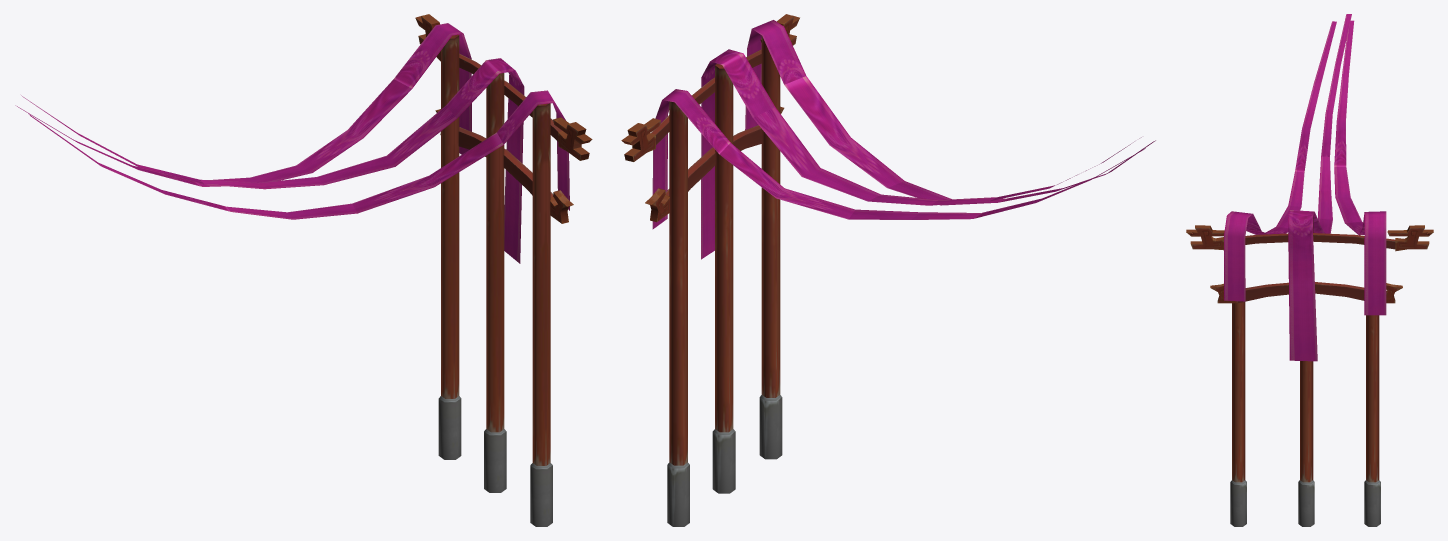
File: ZYthi_CLF_zhujiancaidai01.FBX
The picture shows the model from 3 angles, left to right: view 1: azimuth 30°, elevation 25°; view 2: azimuth 150°, elevation 25°; view 3: azimuth 270°, elevation 25°; orthographic projection. The views are drawn at different scales.
Visible parts, largest first — view 1: ZYthi_CLF_zhujiancaidai01; view 2: ZYthi_CLF_zhujiancaidai01; view 3: ZYthi_CLF_zhujiancaidai01.
Boxes of the visible parts, x1=… form: ZYthi_CLF_zhujiancaidai01: x1=15, y1=14, x2=592, y2=526; ZYthi_CLF_zhujiancaidai01: x1=621, y1=14, x2=1155, y2=526; ZYthi_CLF_zhujiancaidai01: x1=1186, y1=14, x2=1433, y2=526.
Size of the model in its own units: 2300 by 2249 by 1437.
